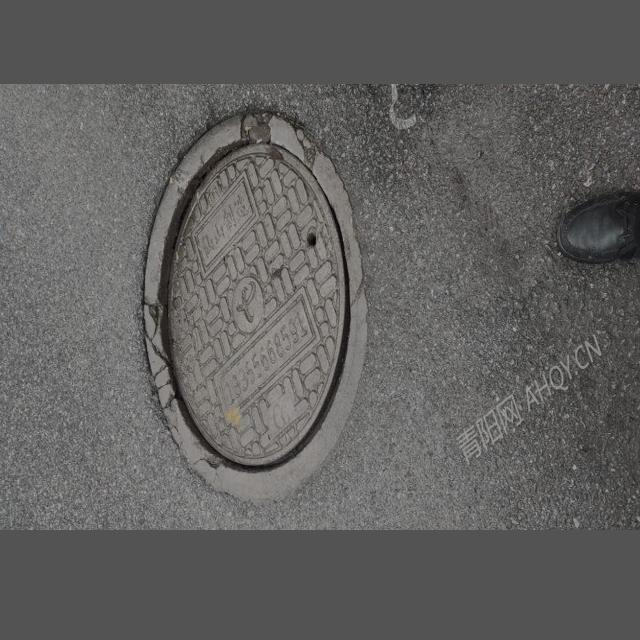circle: (103, 102, 386, 512)
